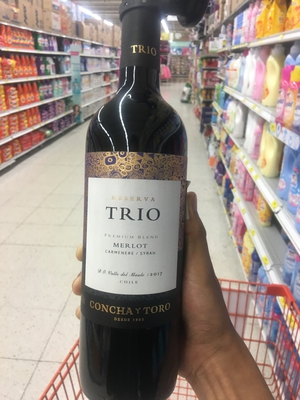trio merlot: (75, 15, 199, 384)
